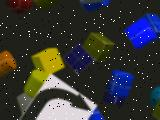Right: (19, 73, 97, 120)
